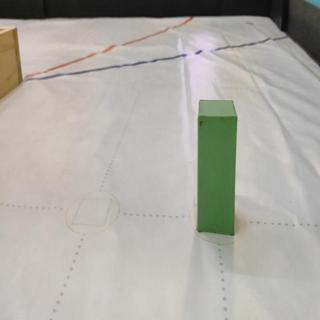greenbox: (196, 99, 237, 236)
